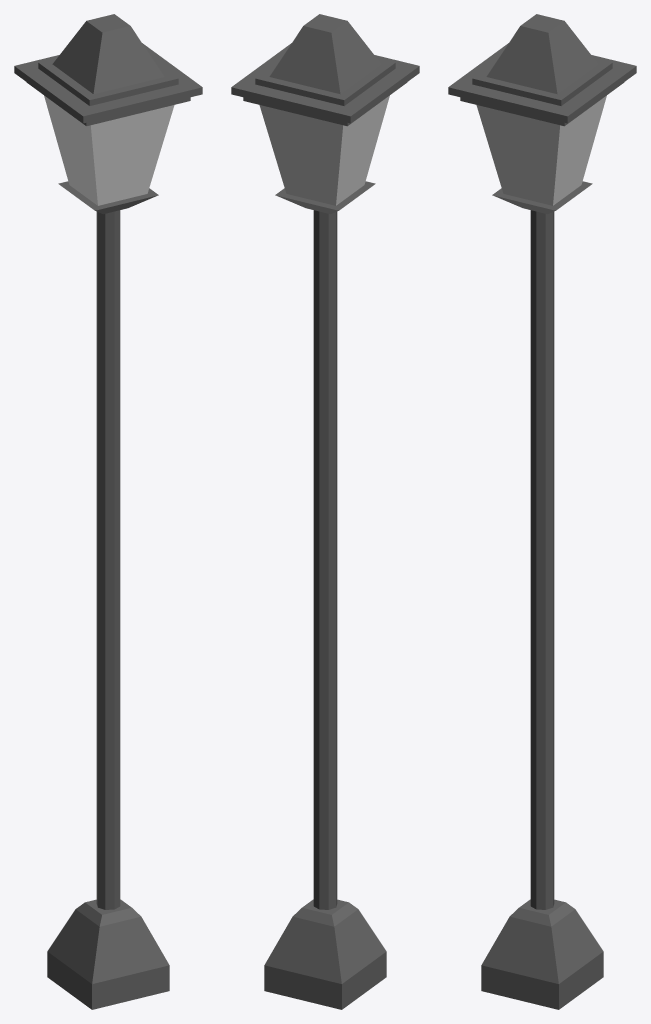
File: LAMP.fbx
3 views of the same model, side by side, from view 1: azimuth 30°, elevation 25°; view 2: azimuth 150°, elevation 25°; view 3: azimuth 330°, elevation 25° (orthographic).
Visible parts, largest first — view 1: Lowpoly lamp_105; view 2: Lowpoly lamp_105; view 3: Lowpoly lamp_105.
Boxes of the visible parts, x1,y1,x2,y2 form: Lowpoly lamp_105: (14,14,202,1009); Lowpoly lamp_105: (231,14,419,1009); Lowpoly lamp_105: (448,14,636,1009).
Size of the model in its own units: 61.4 by 472 by 61.4.
1 material, 1 textured.
